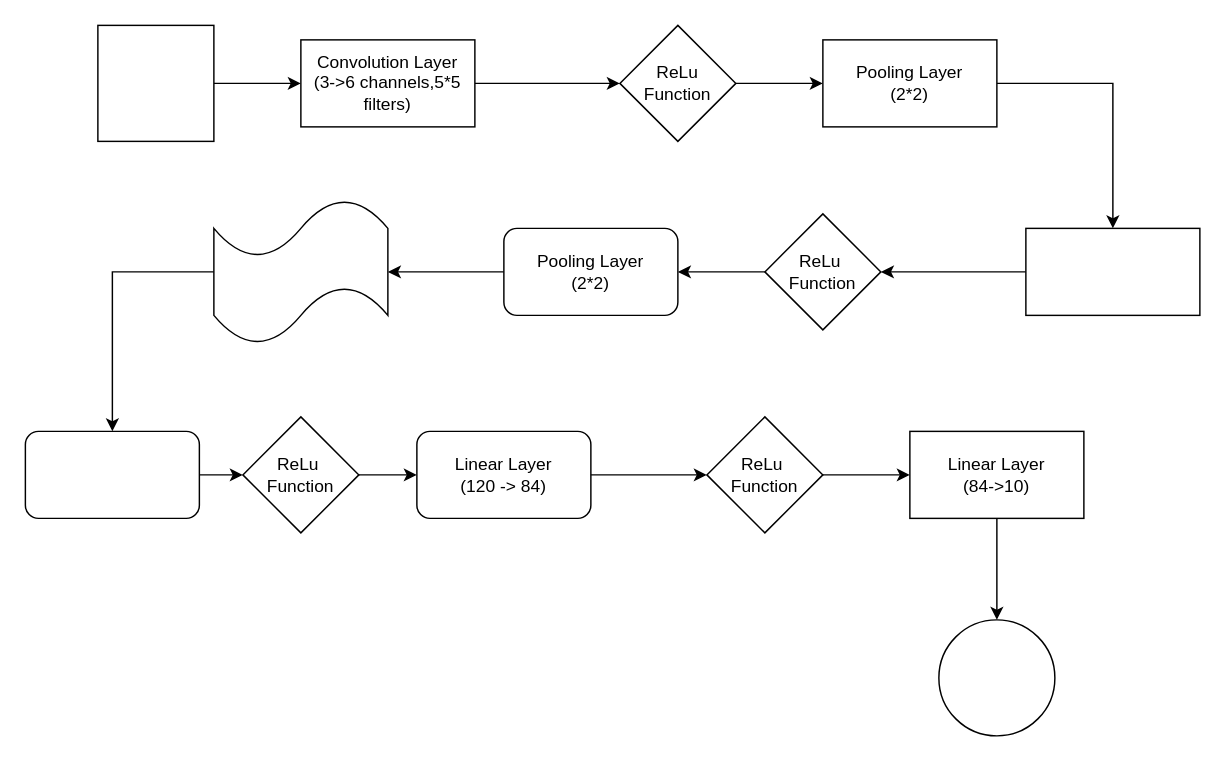
Image size: 1225x761. Some labels were removed from this diagram. The shapes that lost their labels are listed below. From the top down, each one's centre as x and y in pixels, then its label:
At pixel 155 82: "Image".
At pixel 300 271: "Flatten each image's Feature Maps".
At pixel 1112 271: "Convolution Layer (6->16 channels, 5*5 filters)".
At pixel 111 474: "Linear Layer (400 -> 120)".
At pixel 996 677: "Output Class Scores (10)".
